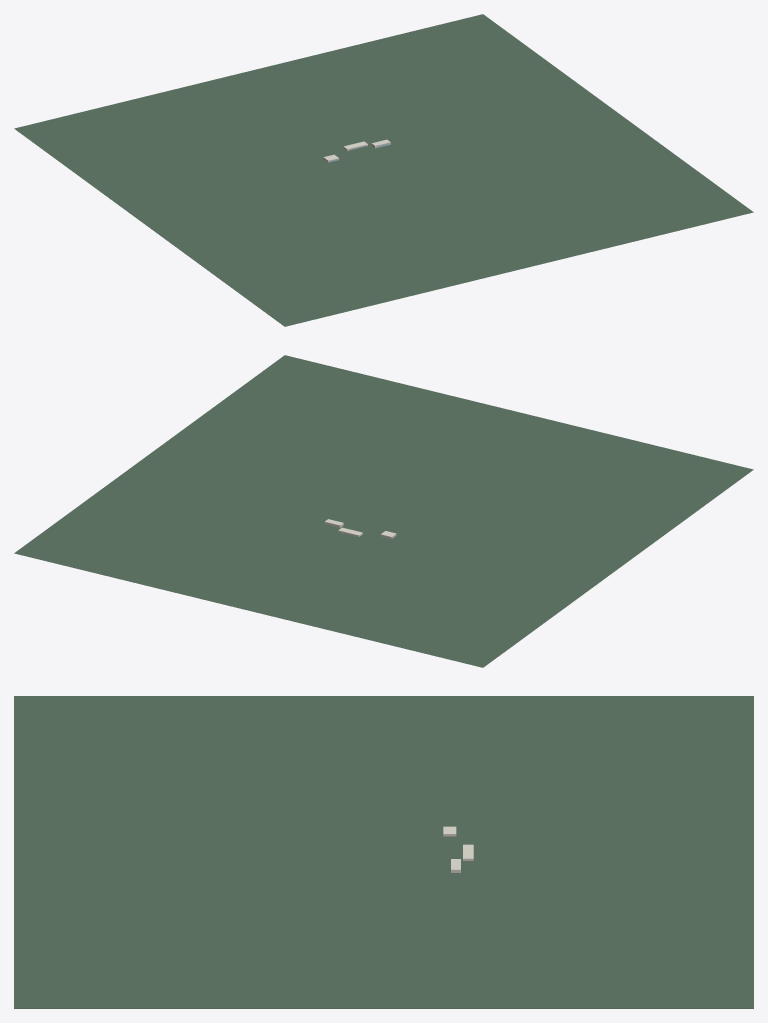
The model's file is astra-background.glb.
3 views of the same model, one above another, from view 1: azimuth 30°, elevation 25°; view 2: azimuth 150°, elevation 25°; view 3: azimuth 270°, elevation 25° (orthographic). The views are drawn at different scales.
Visible parts, largest first — view 1: background static scene; view 2: background static scene; view 3: background static scene.
Part boxes in pixels (x1,y1,x2,y2): background static scene: (14,14,753,326); background static scene: (14,355,753,667); background static scene: (14,696,753,1008).
Bounding box in the file's own units: 1800 × 10.41 × 1800.
